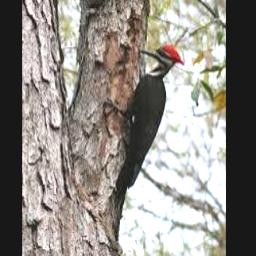Woodpecker: (103, 44, 184, 240)
